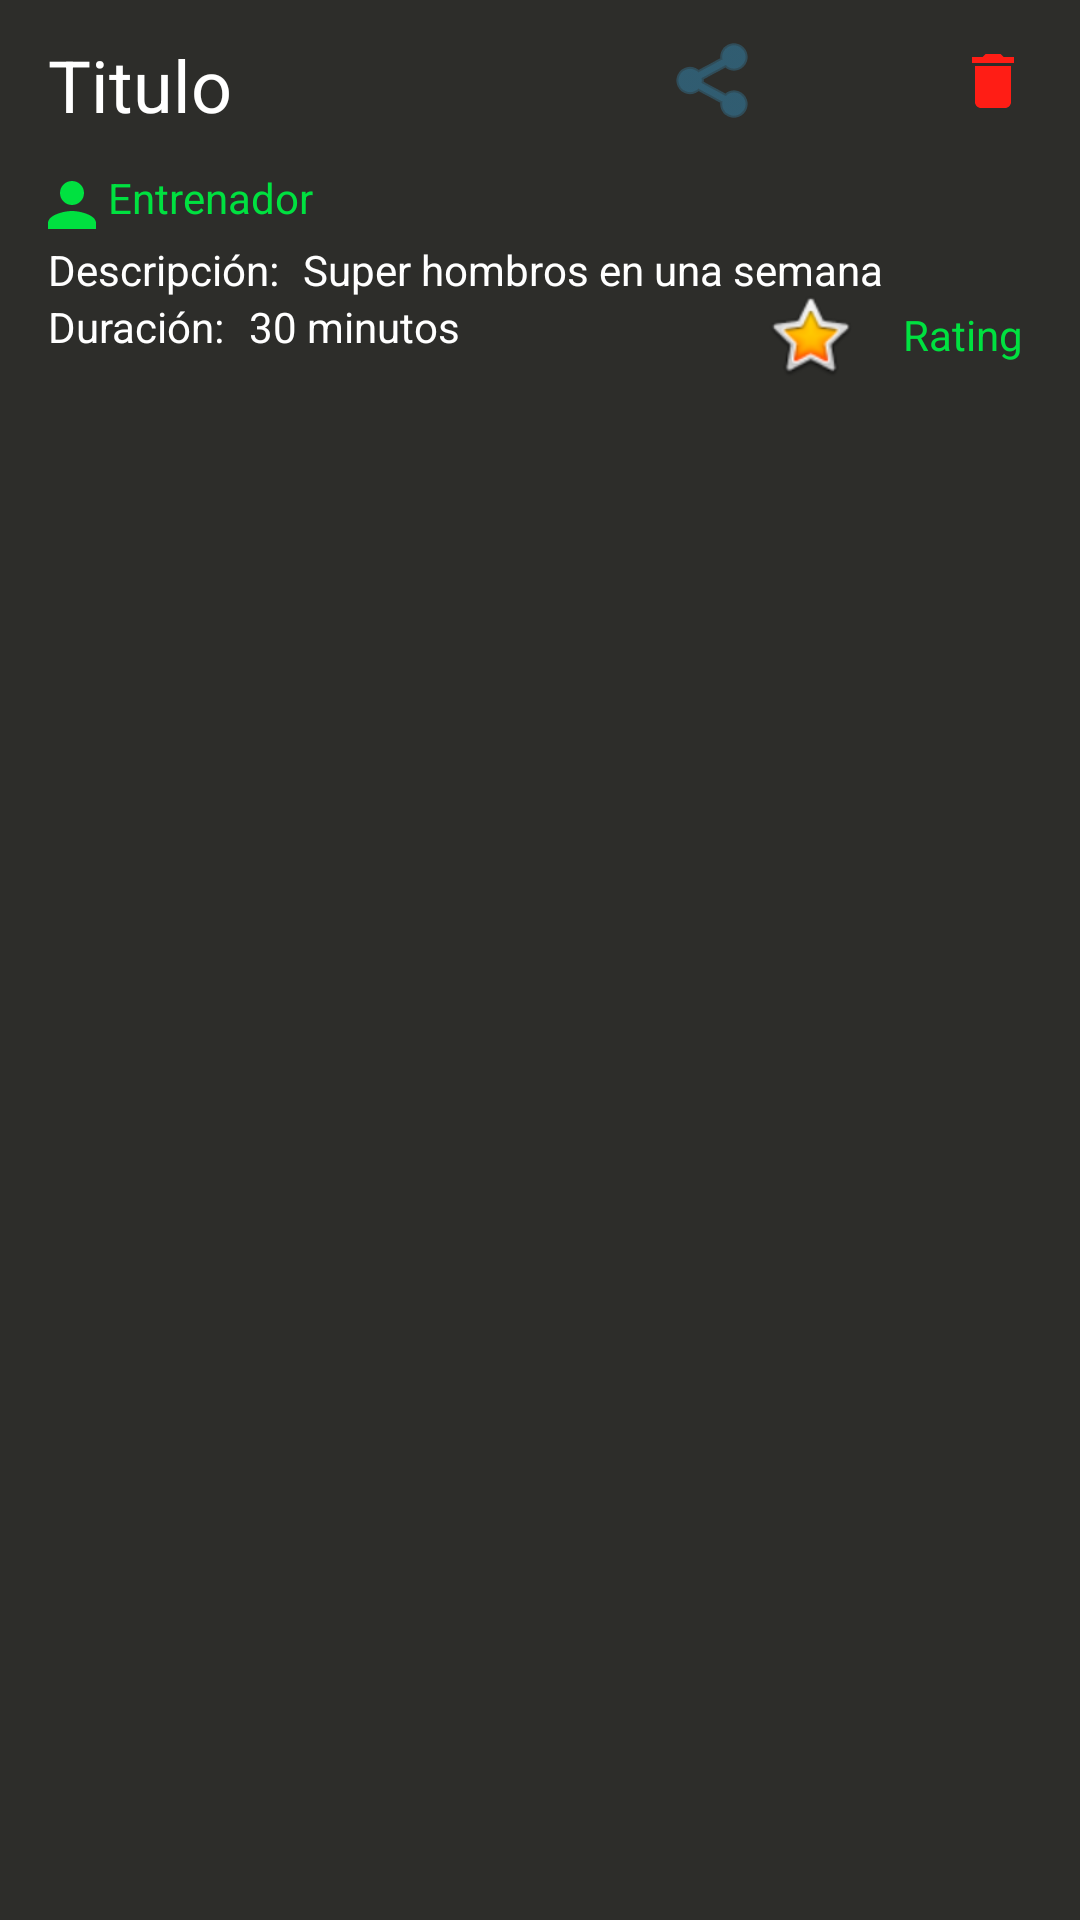

Icon click points for this 1080 x 1920 phone screenshot, format (x,y):
delete: (993,81)
share: (712,80)
